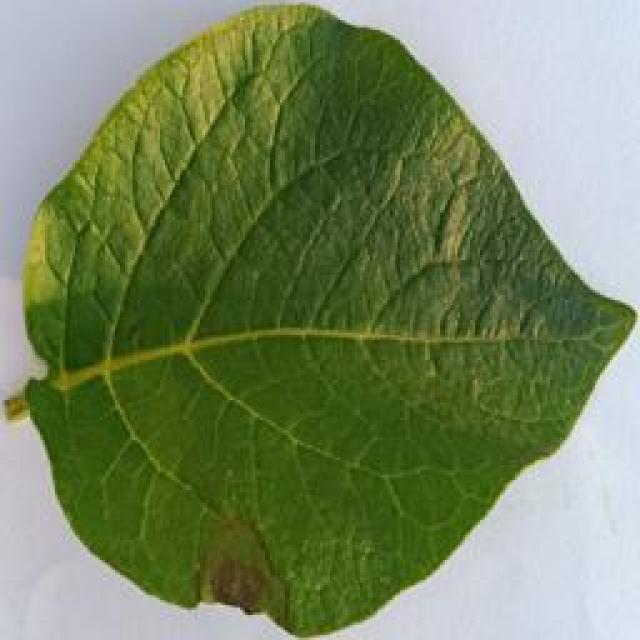Potato_Late_Blight: (7, 5, 632, 632)
